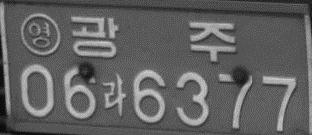0: (19, 62, 55, 119)
3: (175, 70, 210, 126)
6: (62, 66, 98, 120), (132, 69, 166, 123)
7: (217, 72, 254, 131), (261, 74, 297, 132)
광주_D: (69, 15, 236, 63)
라: (102, 72, 127, 118)
영: (19, 12, 60, 57)
